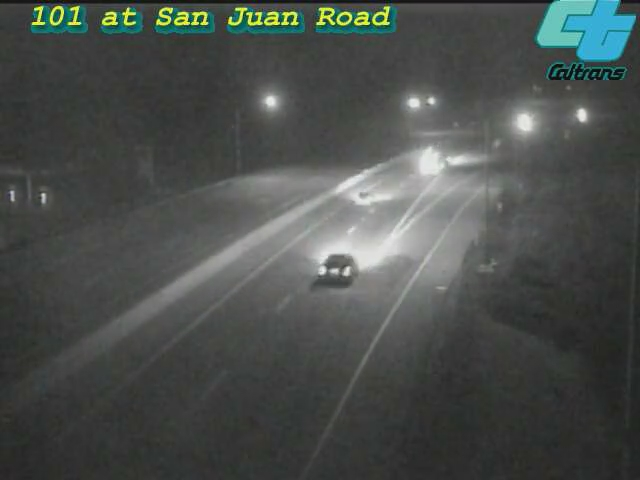vehicle: (326, 157, 406, 237), (301, 228, 381, 308), (497, 99, 547, 149), (556, 90, 606, 140), (407, 135, 457, 185)
